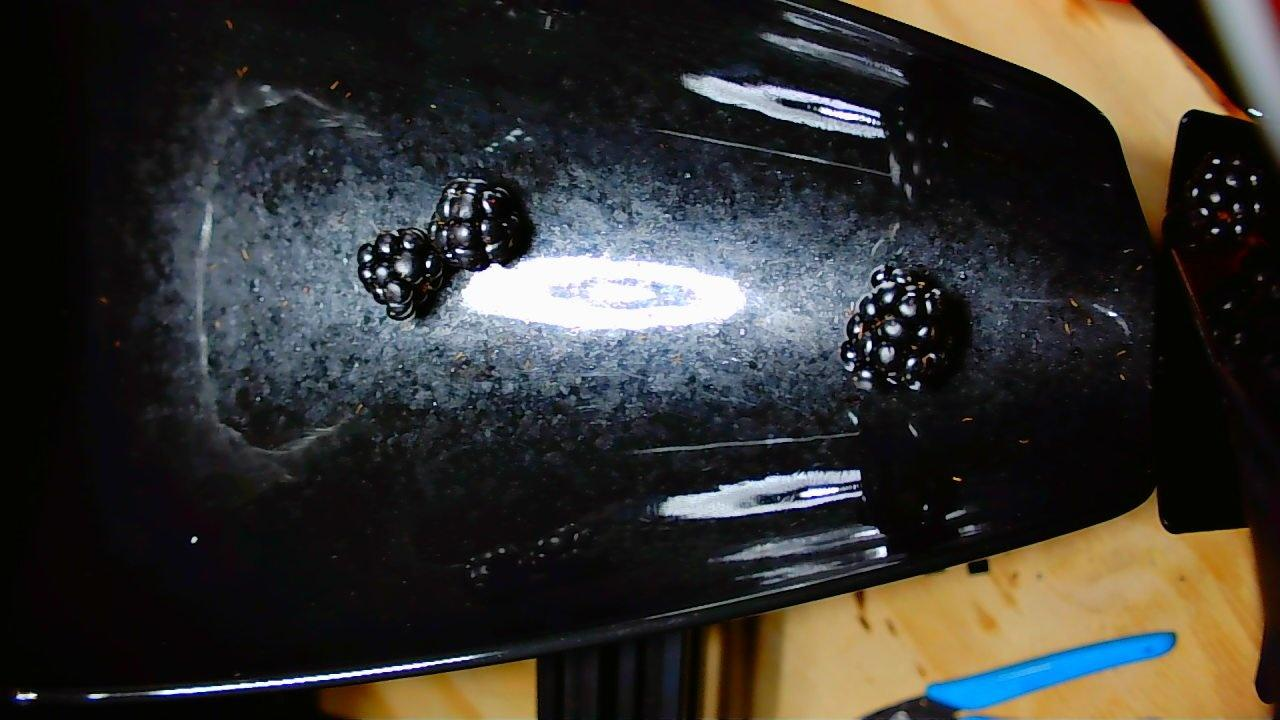berry: (840, 265, 958, 390), (428, 179, 517, 269), (358, 228, 443, 318), (1185, 154, 1265, 240)
